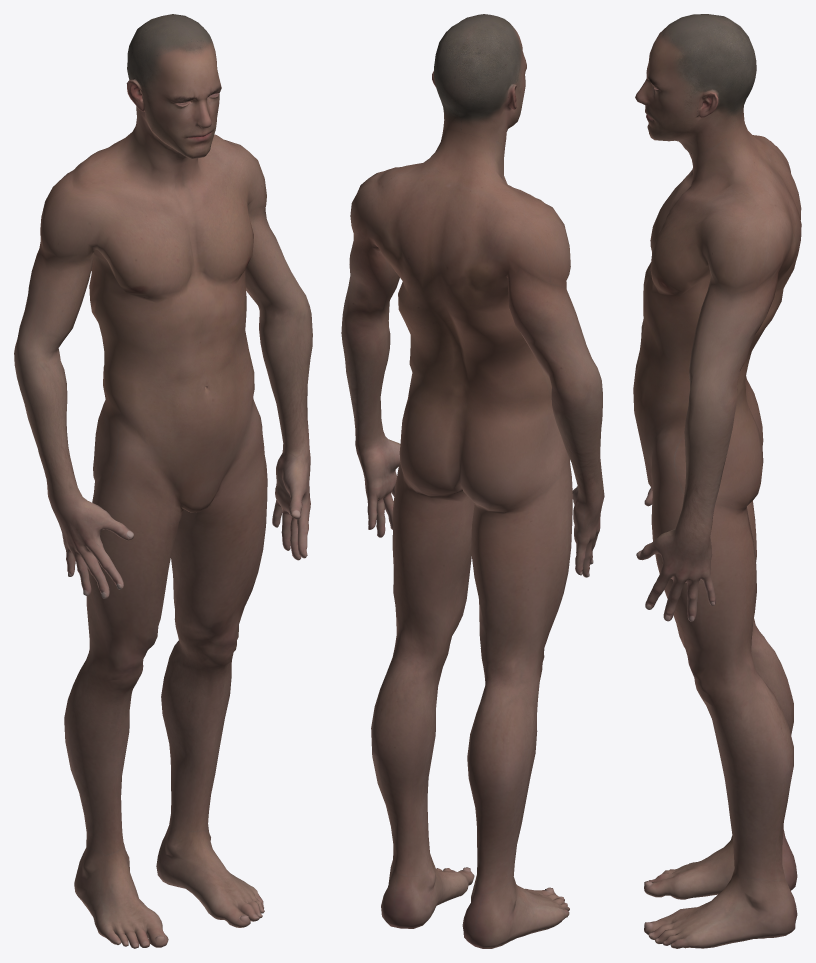
Rendered from male_armDown.fbx.
3 views of the same model, side by side, from view 1: azimuth 30°, elevation 25°; view 2: azimuth 150°, elevation 25°; view 3: azimuth 270°, elevation 25° (orthographic).
Visible parts, largest first — view 1: body; view 2: body; view 3: body.
Part boxes in pixels (x1=…): body: x1=14, y1=14, x2=312, y2=948; body: x1=341, y1=14, x2=604, y2=948; body: x1=633, y1=14, x2=801, y2=948.
Size of the model in its own units: 28.93 by 91.35 by 15.51.
1 material, 1 textured.
